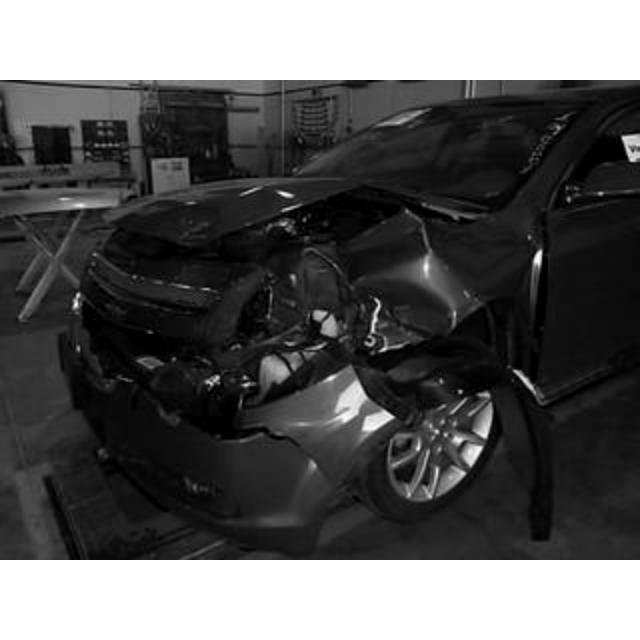bonnet-dent: (94, 170, 412, 244)
fender-dent: (352, 244, 544, 352)
front-bumper-dent: (62, 336, 354, 544)
